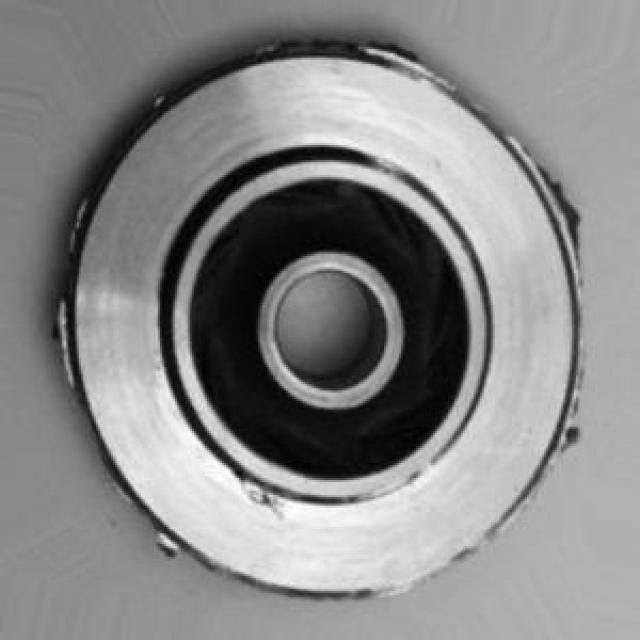Defect: (525, 157, 587, 229)
